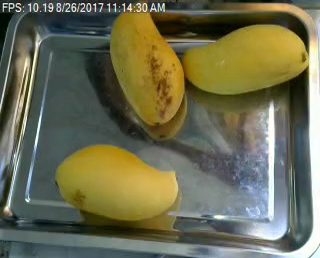Mango: (56, 143, 179, 221), (111, 1, 186, 126), (179, 24, 309, 96)
